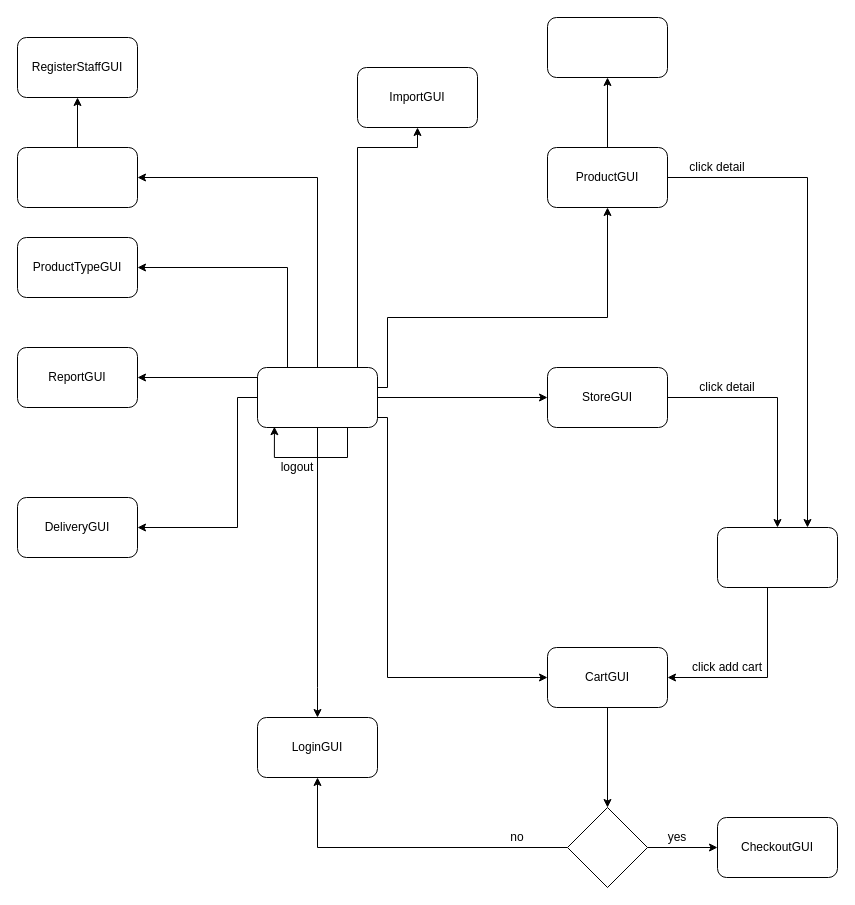
Image size: 855x905. Some labels were removed from this diagram. The centre of each missing label's shape, as x and y in pixels:
"AddProductGUI" goes at point 607,47.
"login?" goes at point 607,847.
"MainGUI" goes at point 317,397.
"ProductDetailGUI" goes at point 777,557.
"StaffGUI" goes at point 77,177.
